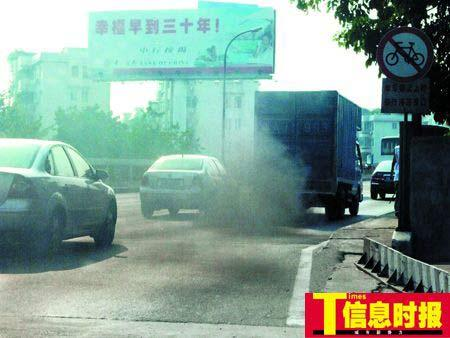smoke: (191, 143, 308, 237)
